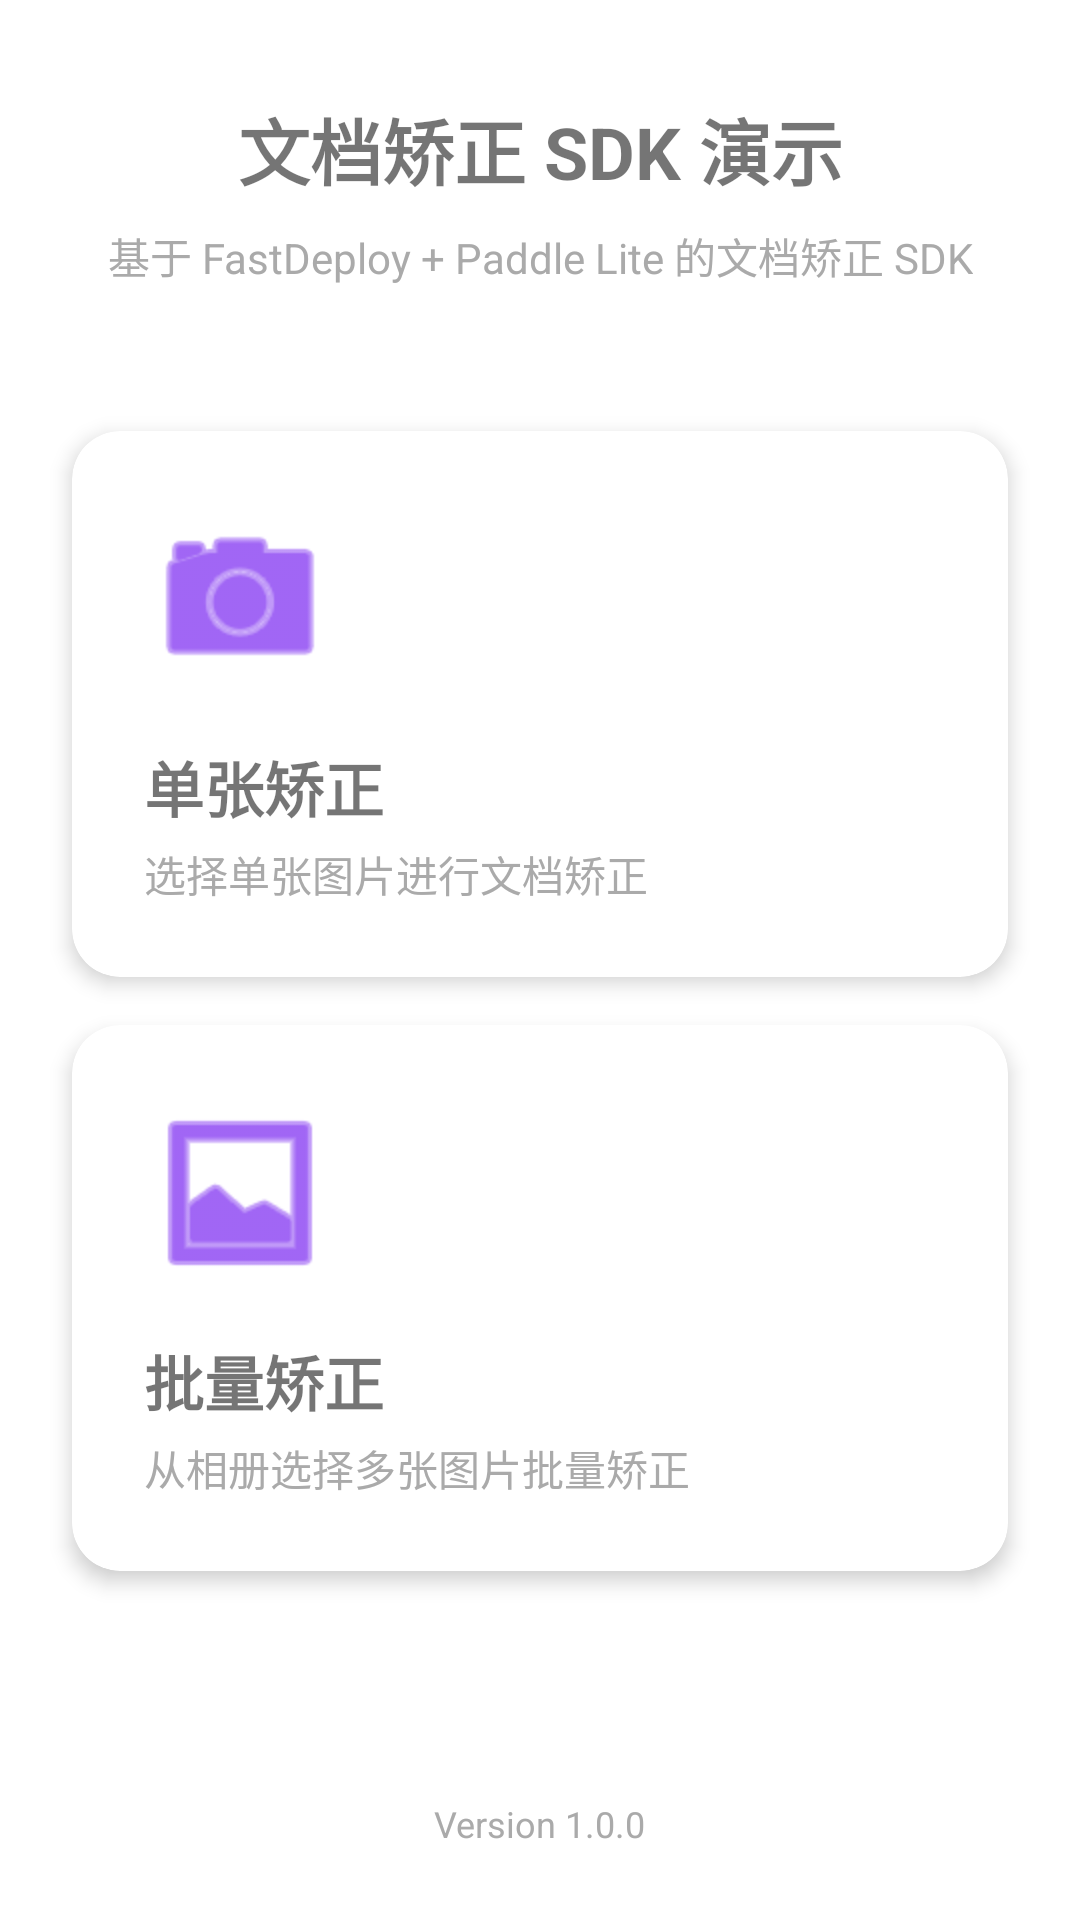

Point at icon controls on the screen. Image size 1080x1920, points as (x,y).
camera: (240,596)
gallery: (240,1193)
